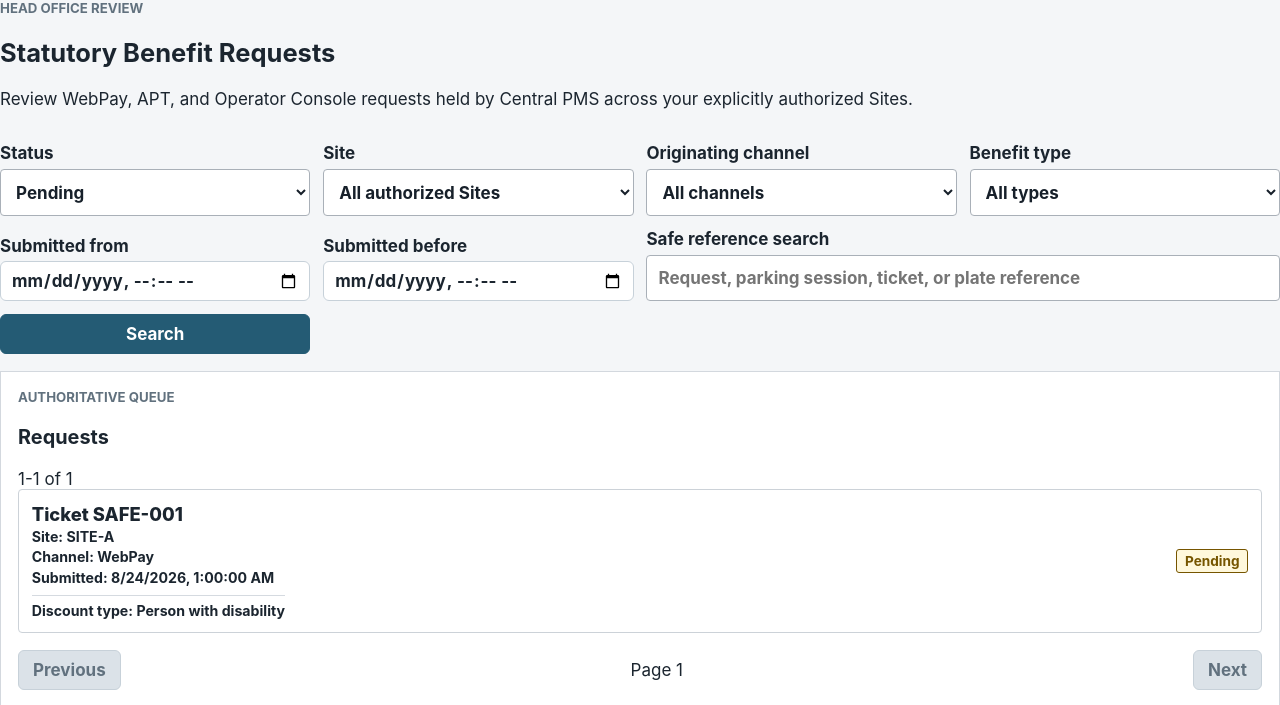
it: Statutory Benefit Requests › requires beneficiary identity for PWD approval even when the legacy sales-book flag is false
Click the button named "Person with disability".
click(640, 561)  # box [18,489,1262,633]
(page scrolled)
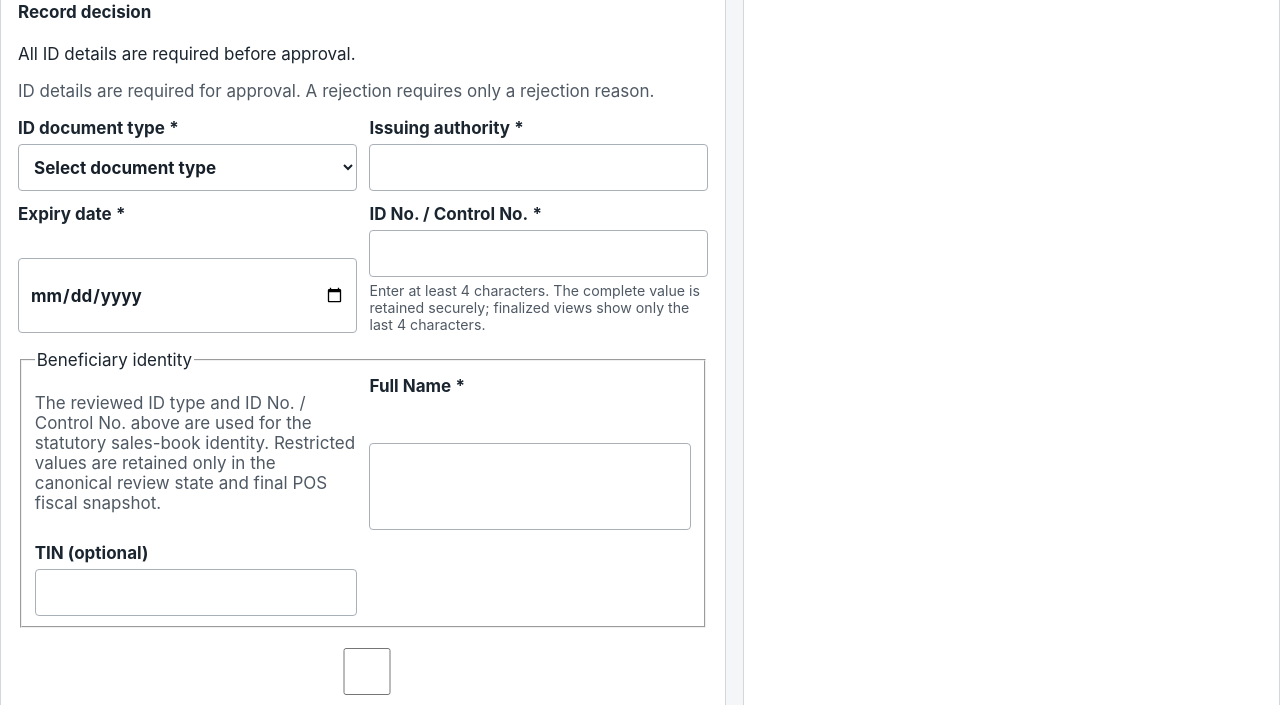
Check: the text "Beneficiary identity" is shown, box [35,350,194,370]
